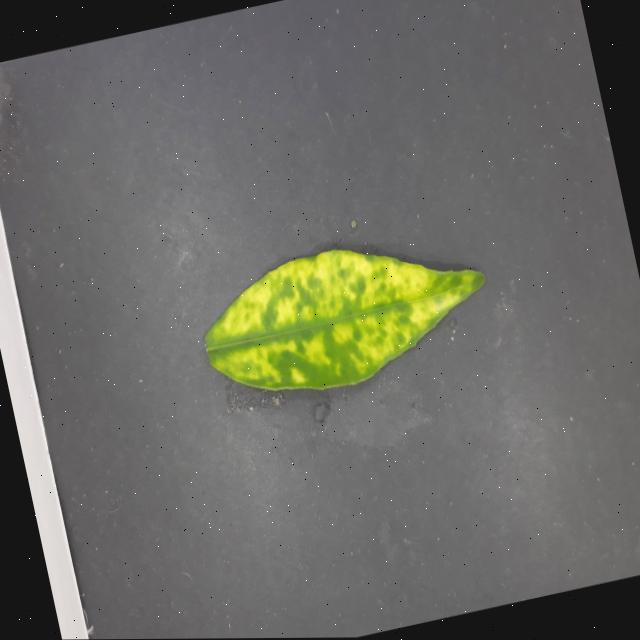greening: (204, 249, 484, 388)
